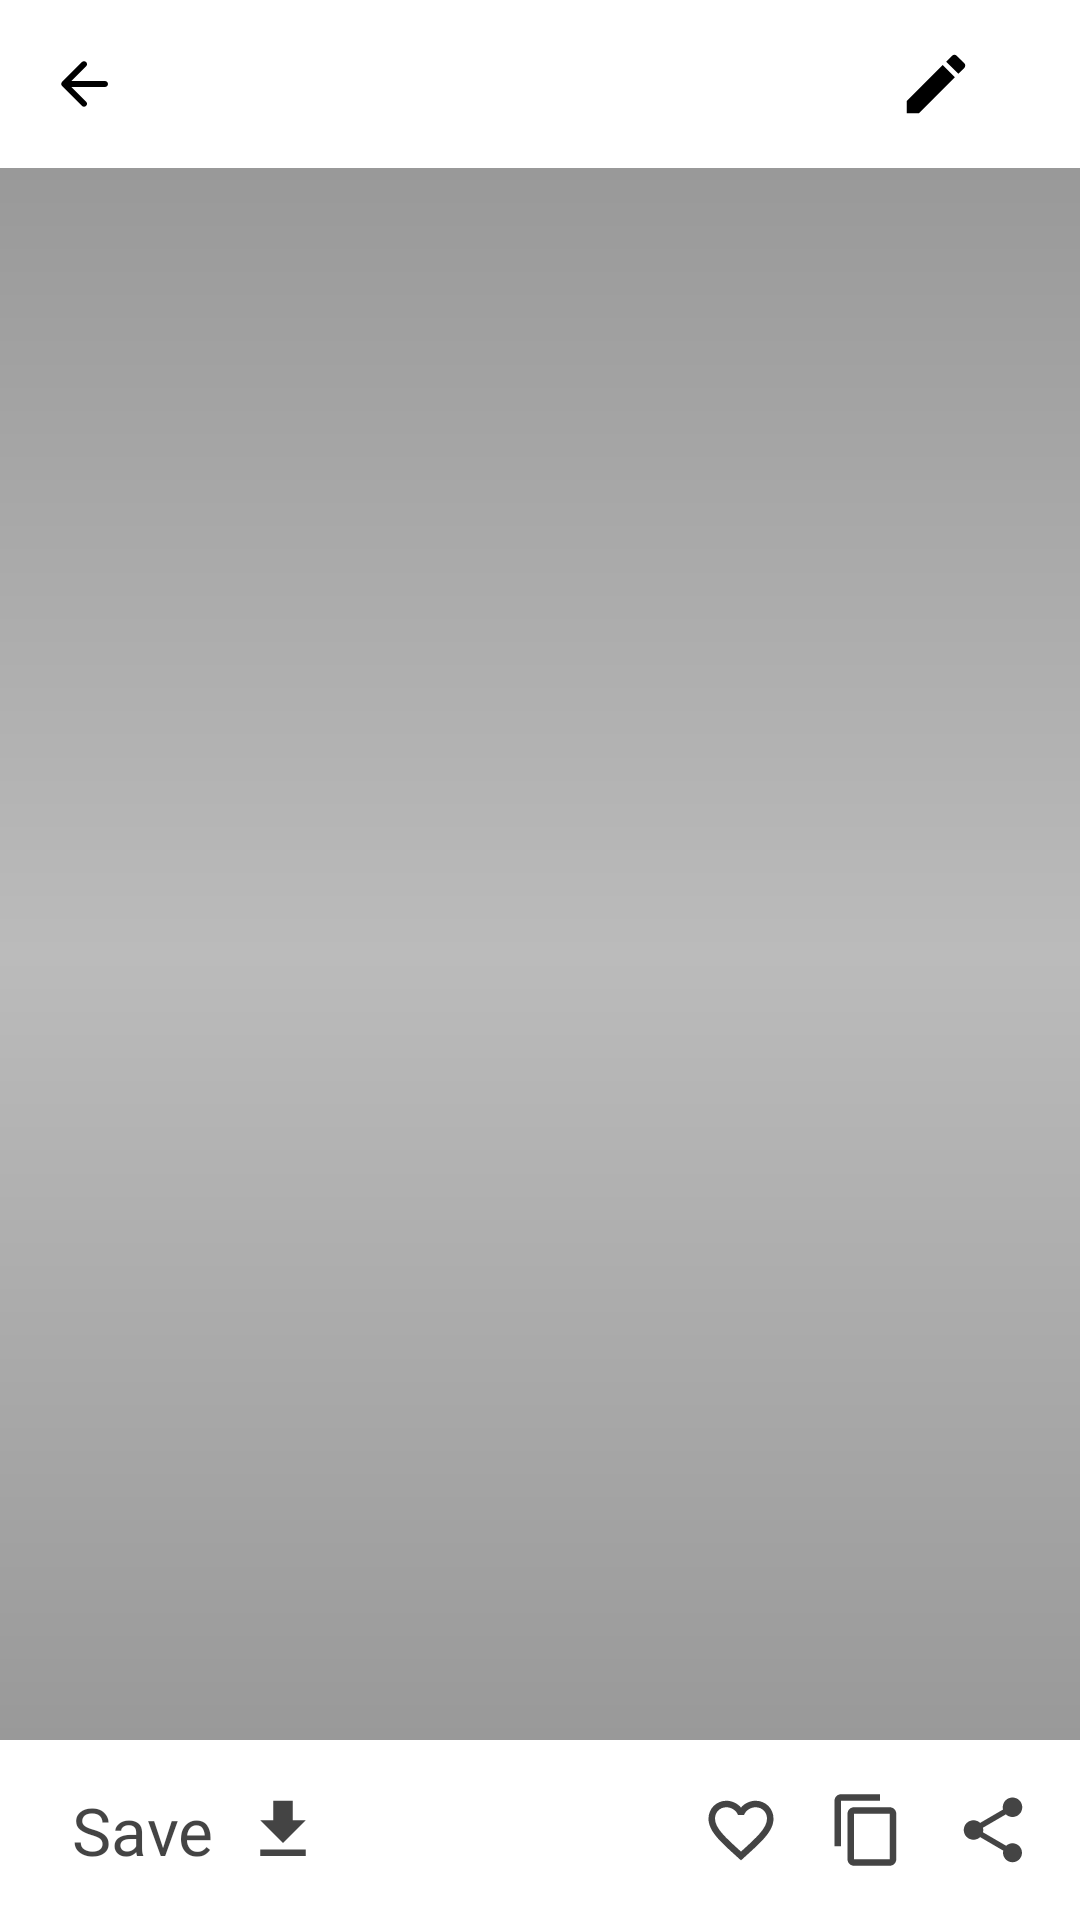

Point at icon controls on the screen. Image size 1080*1920, points as (x=x, y=y).
Edit: (x=936, y=84)
favorite border: (x=741, y=1830)
file download: (x=283, y=1828)
share: (x=993, y=1830)
